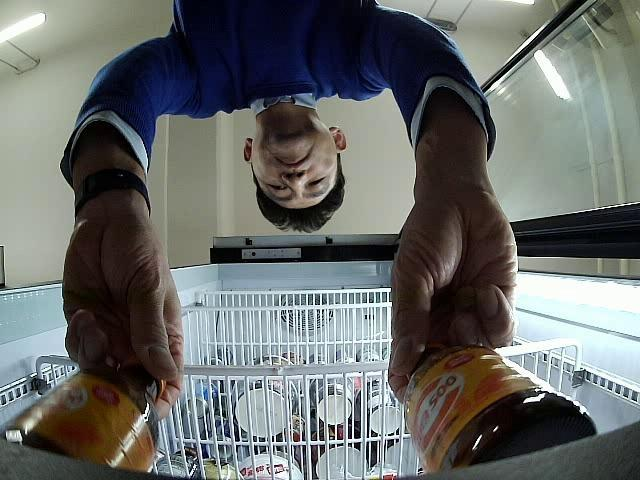17_vita500: (406, 340, 598, 476), (1, 356, 162, 473)
